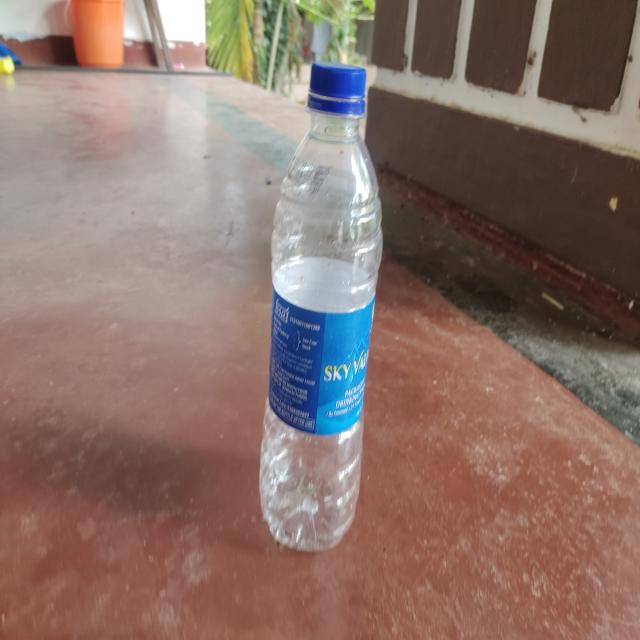plastic: (257, 64, 382, 555)
